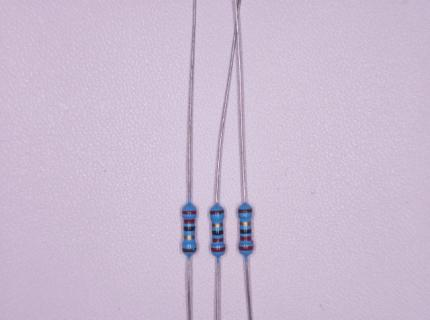Black band: (240, 228, 251, 234), (212, 230, 223, 235), (184, 227, 195, 231)
Brown band: (210, 210, 224, 215), (238, 208, 252, 213), (182, 248, 196, 252)
Gold band: (239, 221, 251, 226), (212, 223, 222, 228), (184, 235, 195, 239)
Red band: (211, 246, 225, 252), (239, 245, 253, 251), (184, 219, 195, 224), (240, 236, 251, 241), (212, 238, 223, 242), (182, 211, 196, 214)
